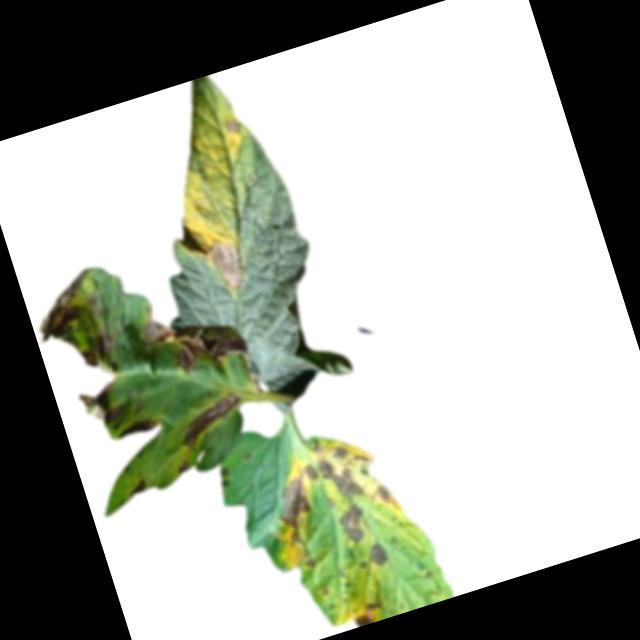Early_blight: (296, 423, 407, 552), (136, 295, 245, 387), (169, 389, 250, 450), (26, 275, 97, 344), (266, 474, 322, 549), (205, 235, 254, 297), (77, 379, 127, 432), (71, 325, 123, 373), (109, 414, 159, 446), (343, 597, 388, 629), (366, 540, 392, 570), (221, 115, 245, 142), (125, 479, 149, 501), (216, 466, 235, 492), (178, 459, 193, 476), (302, 557, 318, 570)
